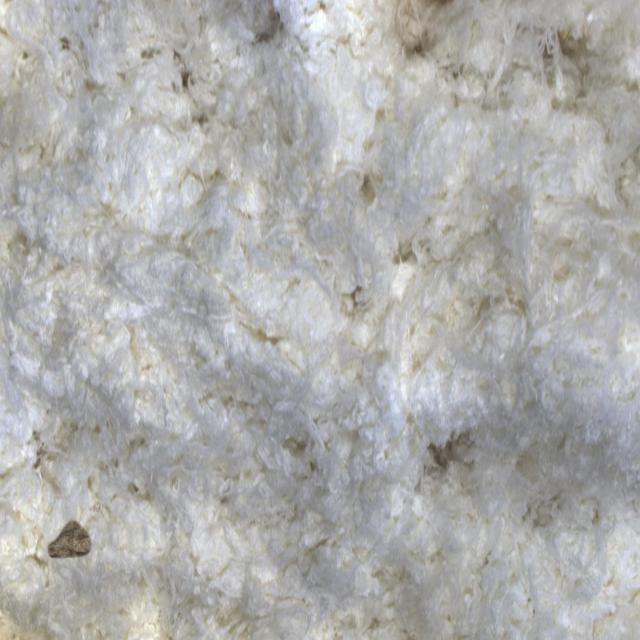dust: (28, 487, 121, 603)
